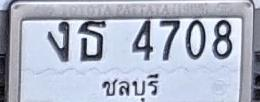0: (186, 18, 206, 59)
4: (132, 18, 153, 60)
7: (159, 19, 180, 60)
8: (212, 19, 232, 59)
A07: (47, 20, 70, 62)
A24: (78, 19, 107, 61)
CBI: (100, 70, 161, 102)
